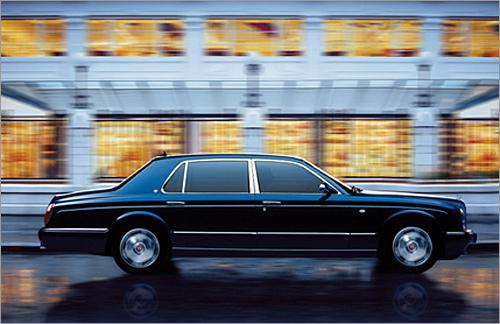Car: (23, 132, 500, 301)
